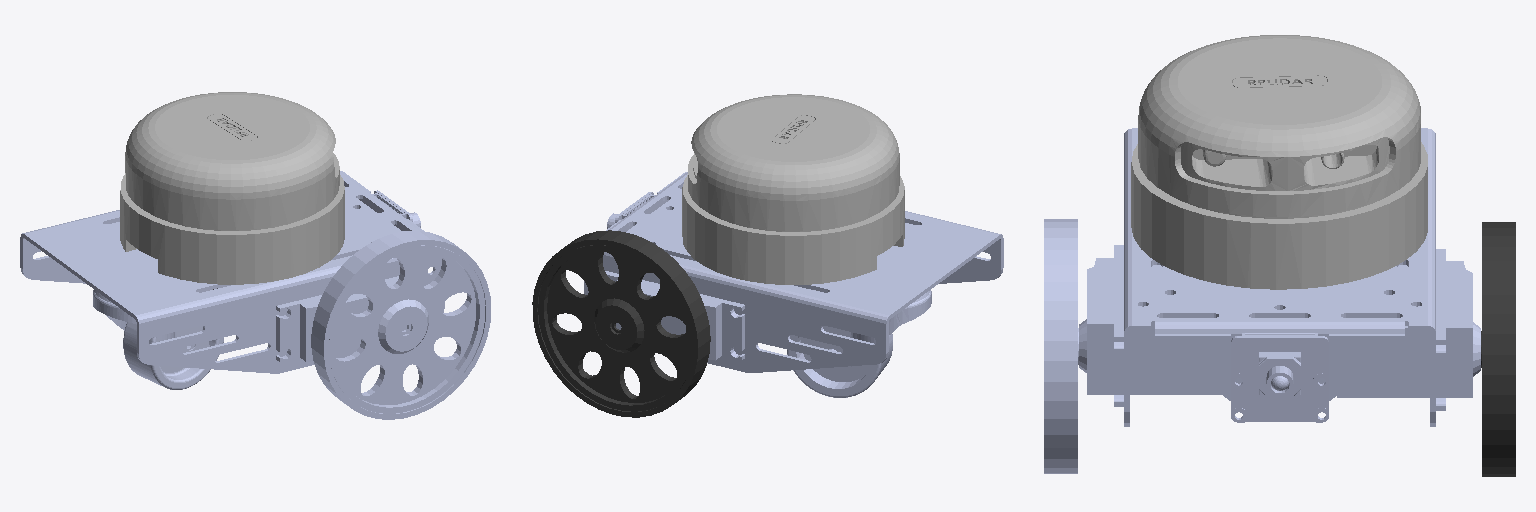
URDF robot description (description_boe_robot):
<?xml version="1.0" encoding="utf-8"?>
<!-- This URDF was automatically created by SolidWorks to URDF Exporter! Originally created by Stephen Brawner (brawner@gmail.com) 
     Commit Version: 1.6.0-4-g7f85cfe  Build Version: 1.6.7995.38578
     For more information, please see http://wiki.ros.org/sw_urdf_exporter -->
<robot
  name="description_boe_robot">
  <link
    name="base_link">
    <inertial>
      <origin
        xyz="0.0154452321358035 -0.00429396691401962 0.00387040357248396"
        rpy="0 0 0" />
      <mass
        value="0.0814944174338659" />
      <inertia
        ixx="2.77701318724521E-05"
        ixy="1.97464555828659E-20"
        ixz="1.05758896470281E-06"
        iyy="4.25794671622108E-05"
        iyz="1.30100984374647E-21"
        izz="6.31746995127737E-05" />
    </inertial>
    <visual>
      <origin
        xyz="0 0 0"
        rpy="0 0 0" />
      <geometry>
        <mesh
          filename="package://description_boe_robot/meshes/base_link.STL" />
      </geometry>
      <material
        name="">
        <color
          rgba="0.796078431372549 0.823529411764706 0.937254901960784 1" />
      </material>
    </visual>
    <collision>
      <origin
        xyz="0 0 0"
        rpy="0 0 0" />
      <geometry>
        <mesh
          filename="package://description_boe_robot/meshes/base_link.STL" />
      </geometry>
    </collision>
  </link>
  <link
    name="imu_link">
    <inertial>
      <origin
        xyz="-8.67361737988404E-19 -6.47004260220536E-05 0.000488343705367661"
        rpy="0 0 0" />
      <mass
        value="0.000302850245192701" />
      <inertia
        ixx="6.03209693376082E-09"
        ixy="-1.40571478543284E-24"
        ixz="-3.4624216232143E-26"
        iyy="9.48650699122206E-09"
        iyz="-8.977554429944E-13"
        izz="1.54683861524513E-08" />
    </inertial>
    <visual>
      <origin
        xyz="0 0 0"
        rpy="0 0 0" />
      <geometry>
        <mesh
          filename="package://description_boe_robot/meshes/imu_link.STL" />
      </geometry>
      <material
        name="">
        <color
          rgba="0.666666666666667 0.698039215686274 0.768627450980392 1" />
      </material>
    </visual>
    <collision>
      <origin
        xyz="0 0 0"
        rpy="0 0 0" />
      <geometry>
        <mesh
          filename="package://description_boe_robot/meshes/imu_link.STL" />
      </geometry>
    </collision>
  </link>
  <joint
    name="imu_joint"
    type="fixed">
    <origin
      xyz="-0.00264539544925994 -0.00404828457544198 0.0145737626289683"
      rpy="0 0 0" />
    <parent
      link="base_link" />
    <child
      link="imu_link" />
    <axis
      xyz="0 0 0" />
  </joint>
  <link
    name="lidar_link">
    <inertial>
      <origin
        xyz="0.00386342963440182 0.000221880625381836 -0.00554963797433405"
        rpy="0 0 0" />
      <mass
        value="0.165382751635991" />
      <inertia
        ixx="7.88455572217802E-05"
        ixy="2.72193273405133E-07"
        ixz="2.17895059451142E-06"
        iyy="7.52099178826257E-05"
        iyz="1.6227741264163E-07"
        izz="0.000109946753058707" />
    </inertial>
    <visual>
      <origin
        xyz="0 0 0"
        rpy="0 0 0" />
      <geometry>
        <mesh
          filename="package://description_boe_robot/meshes/lidar_link.STL" />
      </geometry>
      <material
        name="">
        <color
          rgba="0.752941176470588 0.752941176470588 0.752941176470588 0.4" />
      </material>
    </visual>
    <collision>
      <origin
        xyz="0 0 0"
        rpy="0 0 0" />
      <geometry>
        <mesh
          filename="package://description_boe_robot/meshes/lidar_link.STL" />
      </geometry>
    </collision>
  </link>
  <joint
    name="lidar_joint"
    type="fixed">
    <origin
      xyz="-0.00707231077794026 -0.00456530192940025 0.0434219486627164"
      rpy="0 0 0" />
    <parent
      link="base_link" />
    <child
      link="lidar_link" />
    <axis
      xyz="0 1 0" />
  </joint>
  <link
    name="camera_link">
    <inertial>
      <origin
        xyz="2.6346859077527E-05 -0.000162517733785993 -0.00695925724255319"
        rpy="0 0 0" />
      <mass
        value="0.00154849051596779" />
      <inertia
        ixx="6.15276310368582E-08"
        ixy="3.76651168163259E-10"
        ixz="1.55536718669188E-11"
        iyy="5.63302052123382E-08"
        iyz="2.74799408025976E-09"
        izz="9.81439425205818E-08" />
    </inertial>
    <visual>
      <origin
        xyz="0 0 0"
        rpy="0 0 0" />
      <geometry>
        <mesh
          filename="package://description_boe_robot/meshes/camera_link.STL" />
      </geometry>
      <material
        name="">
        <color
          rgba="0.792156862745098 0.819607843137255 0.933333333333333 1" />
      </material>
    </visual>
    <collision>
      <origin
        xyz="0 0 0"
        rpy="0 0 0" />
      <geometry>
        <mesh
          filename="package://description_boe_robot/meshes/camera_link.STL" />
      </geometry>
    </collision>
  </link>
  <joint
    name="camera_joint"
    type="fixed">
    <origin
      xyz="0.0683011340637784 -0.00429396691401961 0.00747516262896837"
      rpy="1.57079632679489 0 1.5707963267949" />
    <parent
      link="base_link" />
    <child
      link="camera_link" />
    <axis
      xyz="0 0 0" />
  </joint>
  <link
    name="wheel_left_link">
    <inertial>
      <origin
        xyz="0 2.99239799605999E-17 -0.00146203502298485"
        rpy="0 0 0" />
      <mass
        value="0.0130642793486274" />
      <inertia
        ixx="4.32893090293568E-06"
        ixy="-1.73123421255402E-13"
        ixz="4.32193713260435E-22"
        iyy="4.32893075375732E-06"
        iyz="-3.19515020905153E-22"
        izz="8.57657172030877E-06" />
    </inertial>
    <visual>
      <origin
        xyz="0 0 0"
        rpy="0 0 0" />
      <geometry>
        <mesh
          filename="package://description_boe_robot/meshes/wheel_left_link.STL" />
      </geometry>
      <material
        name="">
        <color
          rgba="0.294117647058824 0.294117647058824 0.294117647058824 1" />
      </material>
    </visual>
    <collision>
      <origin
        xyz="0 0 0"
        rpy="0 0 0" />
      <geometry>
        <mesh
          filename="package://description_boe_robot/meshes/wheel_left_link.STL" />
      </geometry>
    </collision>
  </link>
  <joint
    name="wheel_left_joint"
    type="continuous">
    <origin
      xyz="0.0329316266102712 0.0532060330859804 0.000573762628968332"
      rpy="1.5707963267949 0 3.14159265358979" />
    <parent
      link="base_link" />
    <child
      link="wheel_left_link" />
    <axis
      xyz="0 0 1" />
  </joint>
  <link
    name="wheel_right_link">
    <inertial>
      <origin
        xyz="4.5102810375397E-17 -4.81678499170135E-15 -0.00146203502299087"
        rpy="0 0 0" />
      <mass
        value="0.0130642793486274" />
      <inertia
        ixx="4.3289310056521E-06"
        ixy="6.40155687447485E-14"
        ixz="9.80173896029164E-23"
        iyy="4.32893065104092E-06"
        iyz="3.75374289201231E-23"
        izz="8.57657172030878E-06" />
    </inertial>
    <visual>
      <origin
        xyz="0 0 0"
        rpy="0 0 0" />
      <geometry>
        <mesh
          filename="package://description_boe_robot/meshes/wheel_right_link.STL" />
      </geometry>
      <material
        name="">
        <color
          rgba="0.796078431372549 0.823529411764706 0.937254901960784 1" />
      </material>
    </visual>
    <collision>
      <origin
        xyz="0 0 0"
        rpy="0 0 0" />
      <geometry>
        <mesh
          filename="package://description_boe_robot/meshes/wheel_right_link.STL" />
      </geometry>
    </collision>
  </link>
  <joint
    name="wheel_right_joint"
    type="continuous">
    <origin
      xyz="0.0309316266102712 -0.0617939669140257 0.000573762628973176"
      rpy="1.57079632679489 0 0" />
    <parent
      link="base_link" />
    <child
      link="wheel_right_link" />
    <axis
      xyz="0 0 1" />
  </joint>
  <link
    name="caster_base_link">
    <inertial>
      <origin
        xyz="-0.0361714949845476 6.93889390390723E-18 -0.00306583313543687"
        rpy="0 0 0" />
      <mass
        value="0.00301249719132024" />
      <inertia
        ixx="3.91041727158654E-07"
        ixy="-1.05023878087793E-23"
        ixz="-2.9056564408468E-13"
        iyy="2.0299201462166E-07"
        iyz="1.33649377545487E-21"
        izz="5.88569569990756E-07" />
    </inertial>
    <visual>
      <origin
        xyz="0 0 0"
        rpy="0 0 0" />
      <geometry>
        <mesh
          filename="package://description_boe_robot/meshes/caster_base_link.STL" />
      </geometry>
      <material
        name="">
        <color
          rgba="0.792156862745098 0.819607843137255 0.933333333333333 1" />
      </material>
    </visual>
    <collision>
      <origin
        xyz="0 0 0"
        rpy="0 0 0" />
      <geometry>
        <mesh
          filename="package://description_boe_robot/meshes/caster_base_link.STL" />
      </geometry>
    </collision>
  </link>
  <joint
    name="caster_base_joint"
    type="fixed">
    <origin
      xyz="-0.00499540728697256 -0.00429396691401961 0.0185737626289683"
      rpy="0 0 0" />
    <parent
      link="base_link" />
    <child
      link="caster_base_link" />
    <axis
      xyz="0 0 0" />
  </joint>
  <link
    name="caster_rotation_link">
    <inertial>
      <origin
        xyz="0.00809806662782948 0.0017544669924977 -0.00723990774181101"
        rpy="0 0 0" />
      <mass
        value="0.0011340233276086" />
      <inertia
        ixx="1.76275656219811E-07"
        ixy="-8.33448157331285E-09"
        ixz="3.75746019906288E-08"
        iyy="2.12881422659518E-07"
        iyz="8.15035493585826E-09"
        izz="2.20801145580476E-07" />
    </inertial>
    <visual>
      <origin
        xyz="0 0 0"
        rpy="0 0 0" />
      <geometry>
        <mesh
          filename="package://description_boe_robot/meshes/caster_rotation_link.STL" />
      </geometry>
      <material
        name="">
        <color
          rgba="0.792156862745098 0.819607843137255 0.933333333333333 1" />
      </material>
    </visual>
    <collision>
      <origin
        xyz="0 0 0"
        rpy="0 0 0" />
      <geometry>
        <mesh
          filename="package://description_boe_robot/meshes/caster_rotation_link.STL" />
      </geometry>
    </collision>
  </link>
  <joint
    name="caster_rotation_joint"
    type="continuous">
    <origin
      xyz="-0.0361714129632673 0 -0.0106540965605051"
      rpy="0 0 0" />
    <parent
      link="caster_base_link" />
    <child
      link="caster_rotation_link" />
    <axis
      xyz="0 0 1" />
  </joint>
  <link
    name="caster_wheel_link">
    <inertial>
      <origin
        xyz="-2.20234605976047E-06 1.73472347597681E-18 1.01645028791014E-05"
        rpy="0 0 0" />
      <mass
        value="0.00767892497936741" />
      <inertia
        ixx="8.33850198907398E-07"
        ixy="3.98857470286221E-23"
        ixz="-1.22638516465876E-07"
        iyy="8.07278072682819E-07"
        iyz="1.3924337635922E-21"
        izz="1.37329245910549E-06" />
    </inertial>
    <visual>
      <origin
        xyz="0 0 0"
        rpy="0 0 0" />
      <geometry>
        <mesh
          filename="package://description_boe_robot/meshes/caster_wheel_link.STL" />
      </geometry>
      <material
        name="">
        <color
          rgba="0.792156862745098 0.819607843137255 0.933333333333333 1" />
      </material>
    </visual>
    <collision>
      <origin
        xyz="0 0 0"
        rpy="0 0 0" />
      <geometry>
        <mesh
          filename="package://description_boe_robot/meshes/caster_wheel_link.STL" />
      </geometry>
    </collision>
  </link>
  <joint
    name="caster_wheel_joint"
    type="continuous">
    <origin
      xyz="0.0179800158640037 0.0039088609692781 -0.0230000000000002"
      rpy="-1.5707963267949 0 0" />
    <parent
      link="caster_rotation_link" />
    <child
      link="caster_wheel_link" />
    <axis
      xyz="-0.0665291474344724 0 0.997784482010841" />
  </joint>
</robot>

--- What the picture shows (computed from the rendered views, not written in the file) ---
3 views of the same robot in one strip: view 1: azimuth 30°, elevation 25°; view 2: azimuth 150°, elevation 25°; view 3: azimuth 270°, elevation 25° (orthographic).
Robot: description_boe_robot — 9 links, 8 joints (4 continuous, 4 fixed); root link base_link; default pose: all joints at 0.
Visible links, largest first — view 1: lidar_link, base_link, wheel_right_link, caster_wheel_link, caster_rotation_link; view 2: lidar_link, base_link, wheel_left_link, caster_wheel_link, caster_rotation_link; view 3: lidar_link, base_link, wheel_left_link, wheel_right_link, camera_link.
Link boxes in pixels (x1,y1,x2,y2): lidar_link: (120, 92, 344, 284); base_link: (20, 171, 444, 373); wheel_right_link: (311, 231, 490, 419); caster_wheel_link: (123, 322, 223, 389); caster_rotation_link: (93, 290, 209, 352); lidar_link: (682, 94, 904, 284); base_link: (584, 172, 1003, 372); wheel_left_link: (532, 230, 710, 417); caster_wheel_link: (787, 334, 892, 397); caster_rotation_link: (809, 289, 931, 373); lidar_link: (1131, 35, 1427, 289); base_link: (1079, 128, 1480, 426); wheel_left_link: (1481, 222, 1515, 476); wheel_right_link: (1044, 219, 1078, 473); camera_link: (1231, 333, 1328, 422).
Size in the robot's own frame: 0.1319 by 0.1205 by 0.0917 metres.
Meshes: 9 distinct files referenced, 9 mesh visuals loaded (9 binary STL).
